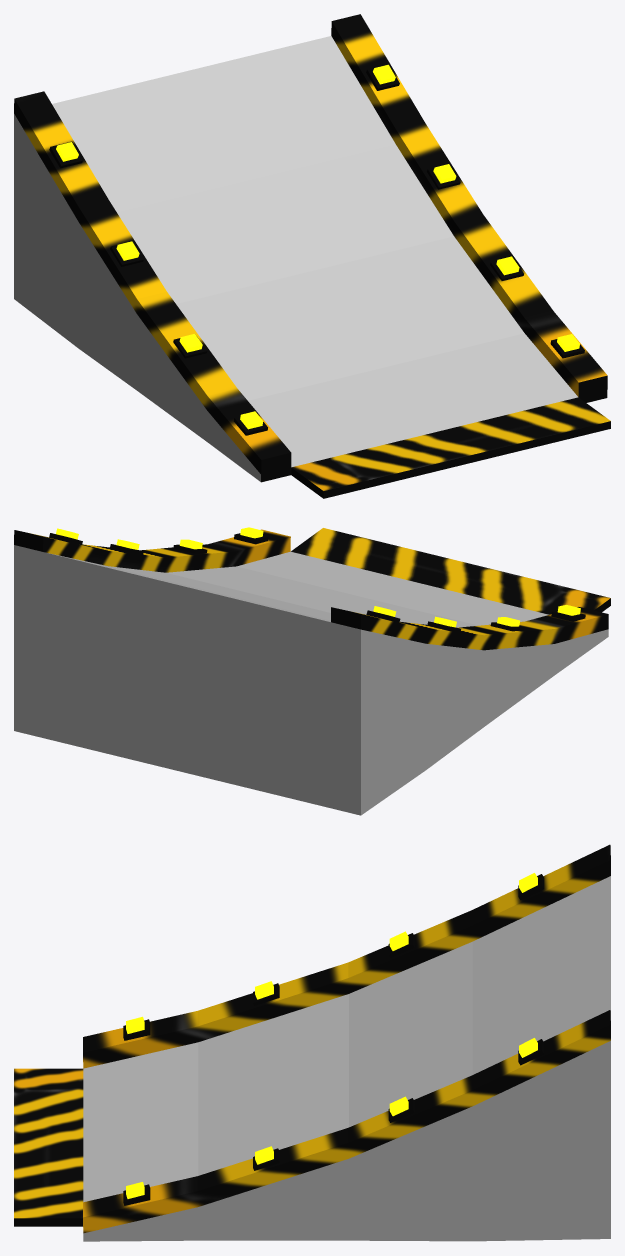
Rendered from ice_bg_asset_05.fbx.
3 renders of one model, top to bottom at view 1: azimuth 30°, elevation 25°; view 2: azimuth 150°, elevation 25°; view 3: azimuth 270°, elevation 25°, orthographic. The views are drawn at different scales.
Visible parts, largest first — view 1: Cube; view 2: Cube; view 3: Cube.
Part boxes in pixels (<box>): Cube: <box>14,14,610,498</box>; Cube: <box>14,527,610,815</box>; Cube: <box>14,844,610,1241</box>.
Size of the model in its own units: 567 by 318 by 793.
